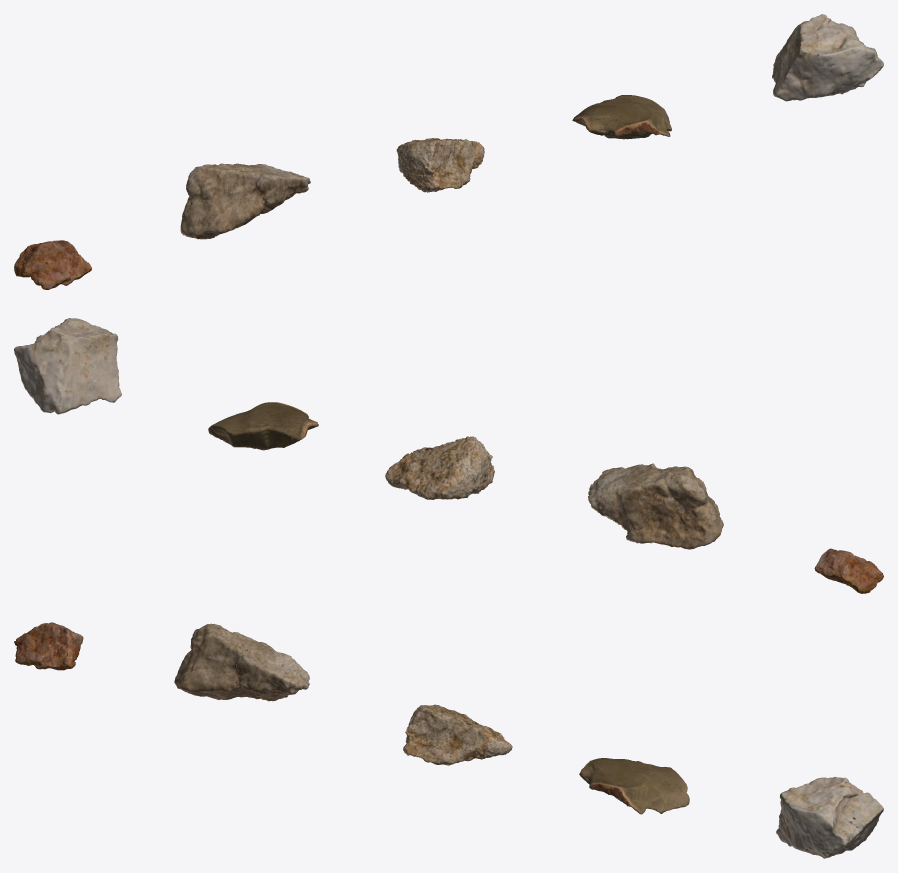
File: namaqualand_stones_01.glb
The picture shows the model from 3 angles, top to bottom: view 1: azimuth 30°, elevation 25°; view 2: azimuth 150°, elevation 25°; view 3: azimuth 330°, elevation 25°; orthographic projection.
Visible parts, largest first — view 1: namaqualand_stones_01_e, namaqualand_stones_01_b, namaqualand_stones_01_c, namaqualand_stones_01_d, namaqualand_stones_01_a; view 2: namaqualand_stones_01_b, namaqualand_stones_01_e, namaqualand_stones_01_c, namaqualand_stones_01_d, namaqualand_stones_01_a; view 3: namaqualand_stones_01_b, namaqualand_stones_01_e, namaqualand_stones_01_c, namaqualand_stones_01_d, namaqualand_stones_01_a.
Boxes of the visible parts, left/top/right/bottom form: namaqualand_stones_01_e: left=772, top=14, right=883, bottom=101; namaqualand_stones_01_b: left=180, top=163, right=310, bottom=239; namaqualand_stones_01_c: left=396, top=138, right=484, bottom=192; namaqualand_stones_01_d: left=572, top=95, right=671, bottom=139; namaqualand_stones_01_a: left=14, top=240, right=91, bottom=289; namaqualand_stones_01_b: left=588, top=463, right=723, bottom=549; namaqualand_stones_01_e: left=14, top=318, right=121, bottom=414; namaqualand_stones_01_c: left=385, top=436, right=494, bottom=499; namaqualand_stones_01_d: left=208, top=402, right=318, bottom=450; namaqualand_stones_01_a: left=814, top=548, right=883, bottom=593; namaqualand_stones_01_b: left=174, top=623, right=309, bottom=701; namaqualand_stones_01_e: left=776, top=776, right=883, bottom=858; namaqualand_stones_01_c: left=403, top=704, right=512, bottom=765; namaqualand_stones_01_d: left=579, top=758, right=689, bottom=814; namaqualand_stones_01_a: left=14, top=622, right=83, bottom=670.
Bounding box in the file's own units: 1.02 × 0.084 × 0.1121.
Materials: 1 (1 with a texture image).
